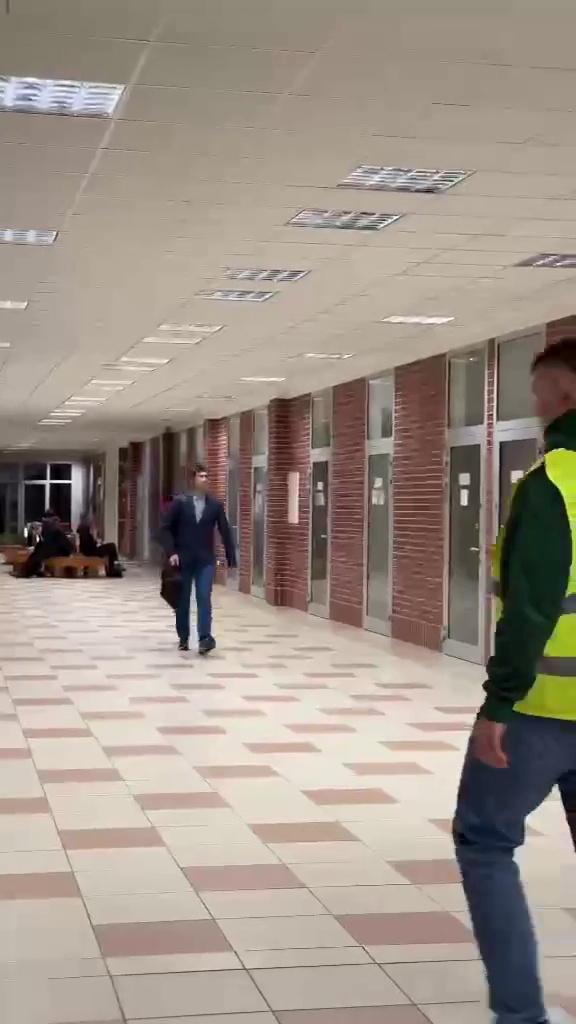no vest: (153, 459, 239, 664)
vest: (457, 338, 576, 1021)
